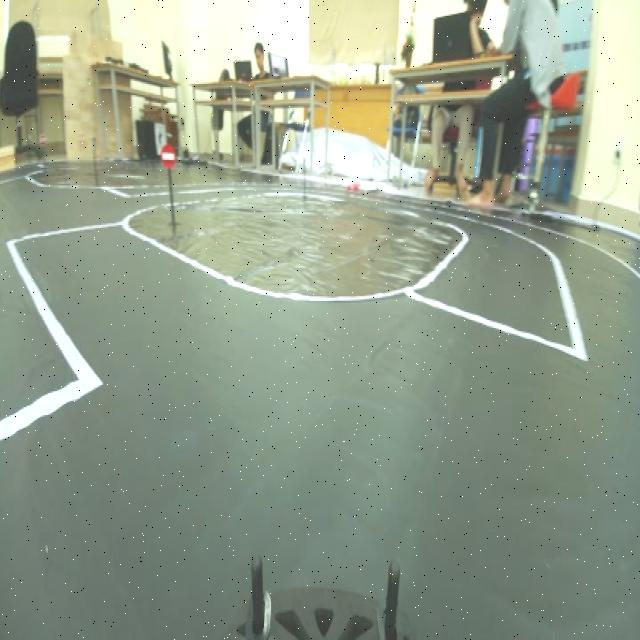no_entry: (152, 140, 183, 175)
